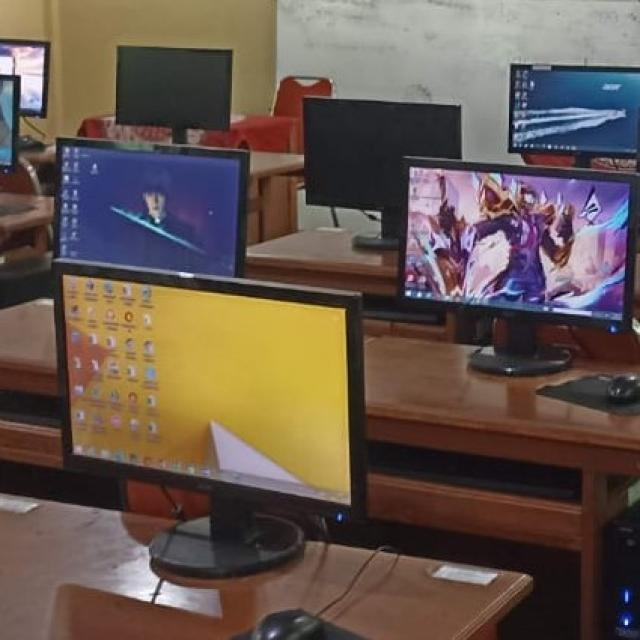offscreen: (306, 99, 461, 208), (117, 46, 232, 143), (0, 39, 50, 117)
onscreen: (54, 260, 365, 511), (403, 161, 636, 322), (57, 139, 246, 276), (511, 66, 638, 154)
